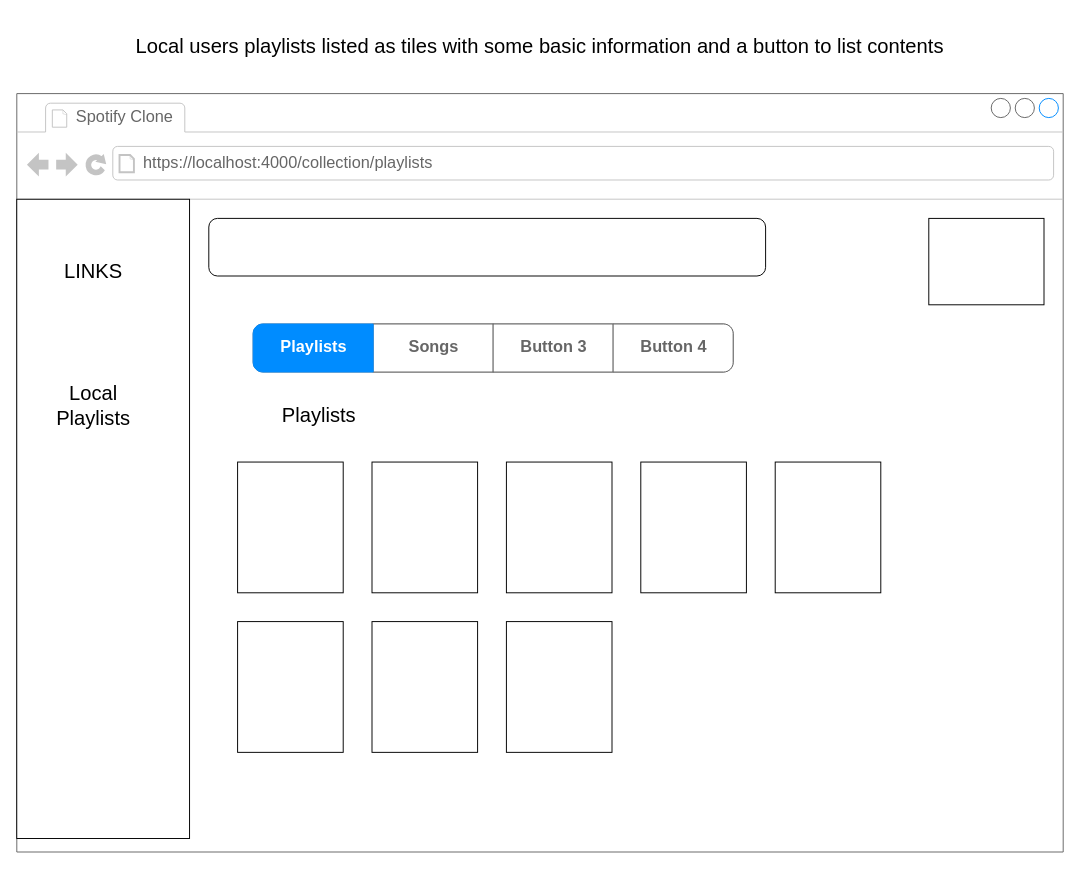
Image size: 1081x869. Some labels were removed from this diagram. Each missing label, with the centre of its shape:
Logged in user menu: point (986, 261)
Main Search Bar: point (487, 246)
